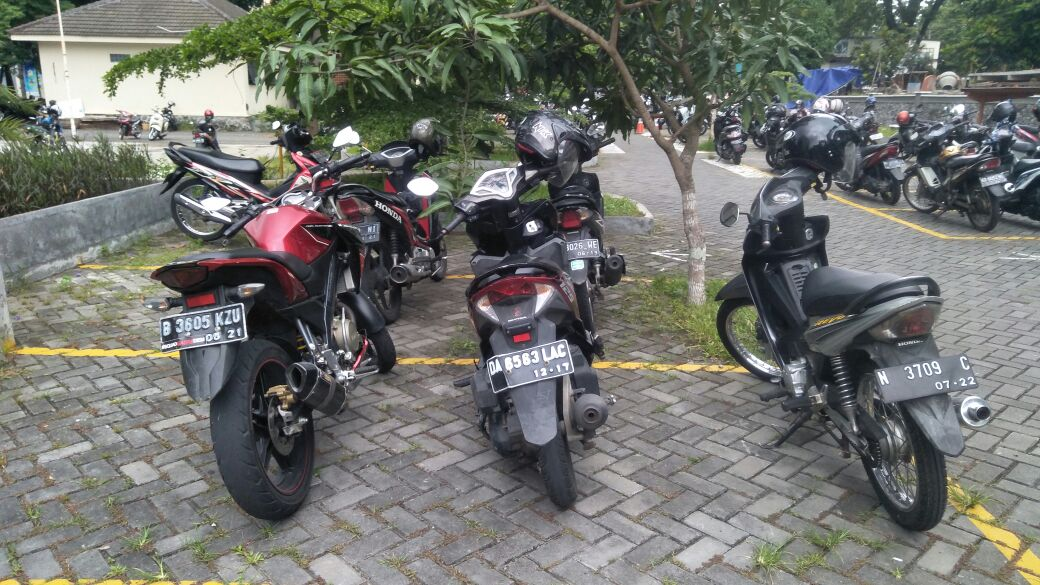plate: (875, 355, 982, 402), (485, 340, 575, 386), (159, 304, 249, 345)
